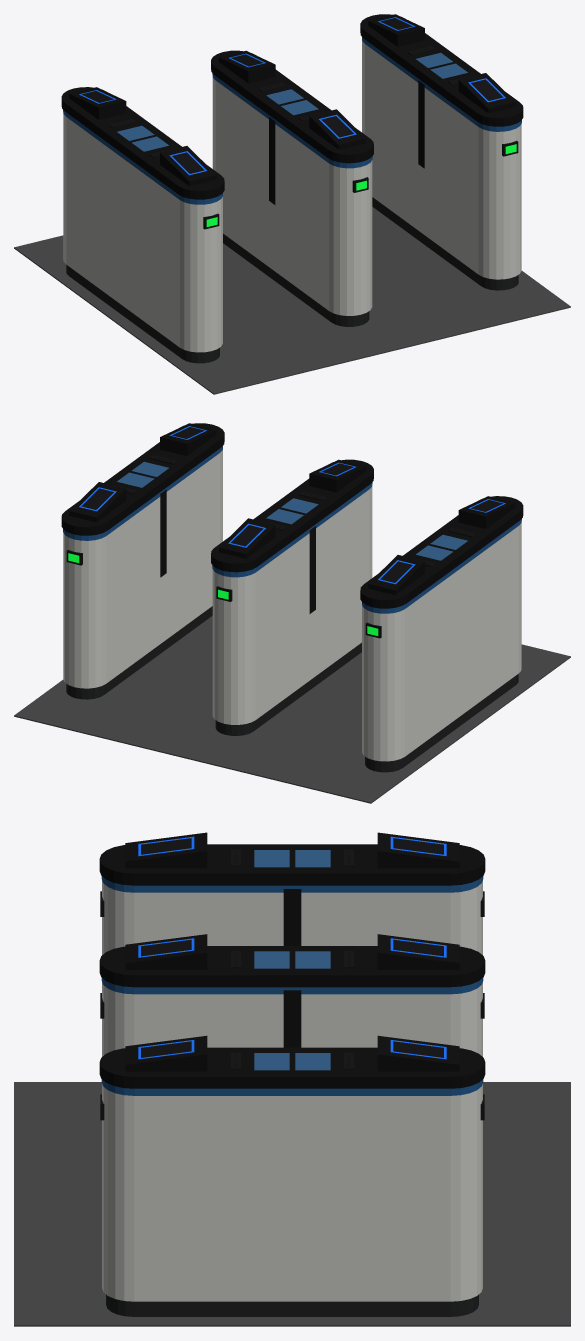
The model's file is gteki_gate_array_2.glb.
3 views of the same model, one above another, from view 1: azimuth 30°, elevation 25°; view 2: azimuth 150°, elevation 25°; view 3: azimuth 270°, elevation 25° (orthographic). The views are drawn at different scales.
Parts seen in each view (by area): view 1: VIS_body; view 2: VIS_body; view 3: VIS_body.
Boxes of the visible parts, x1,y1,x2,y2 form: VIS_body: (14, 14, 570, 394); VIS_body: (14, 423, 570, 803); VIS_body: (14, 832, 570, 1326).
Size of what is drawn, in the model's own units: 1.96 by 0.985 by 1.9.
Materials: 1 (1 with a texture image).
